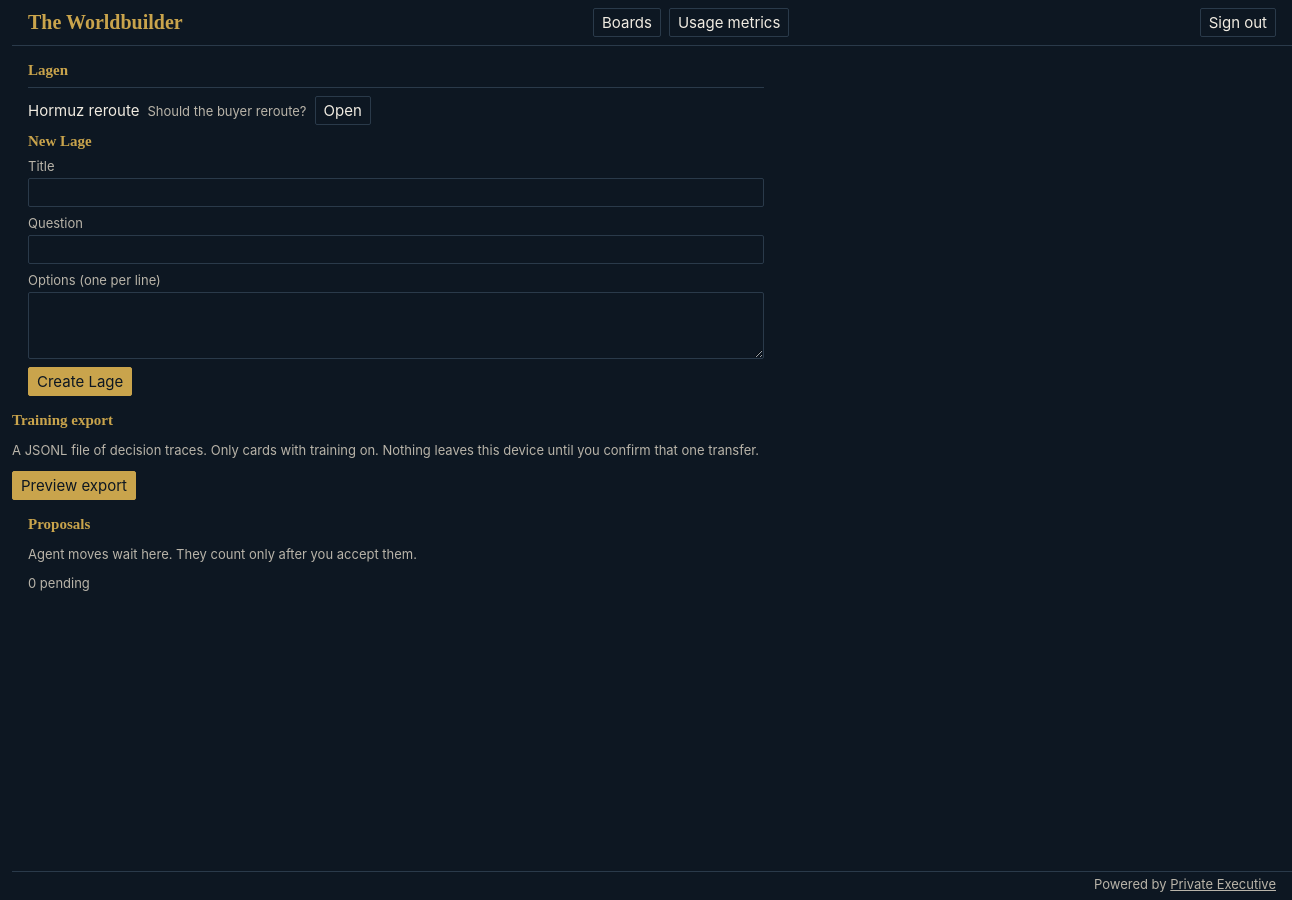
Scenario: Lage list and creation › shows an archived board and does not save that view
The width and height of the screenshot is (1292, 900).
Click the button "Open" at (343, 110), box 314,96 -> 371,125
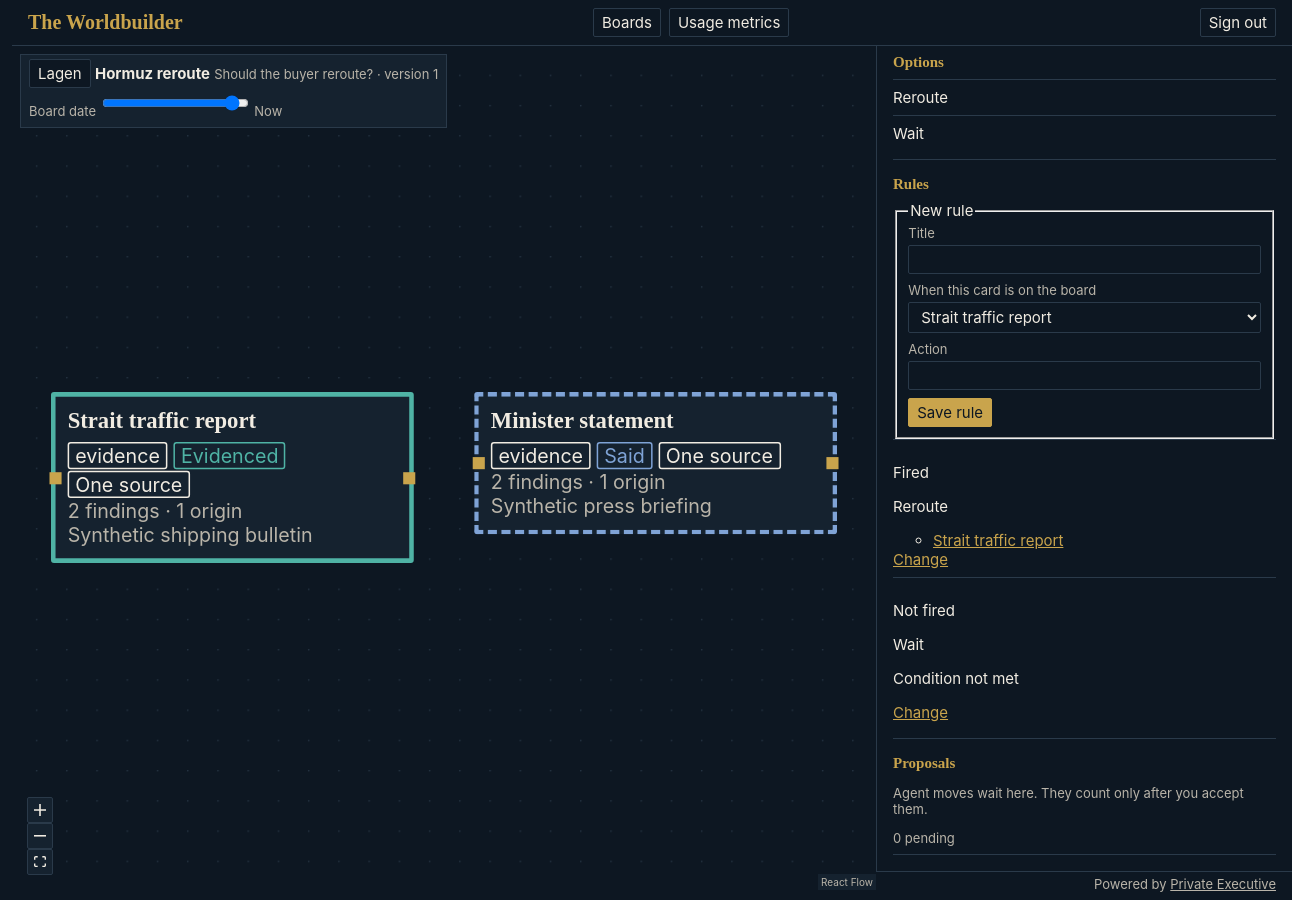
Expected: the text with test id "board-question" reads "Should the buyer reroute?", 214,66 -> 373,82
Expected: the element with test id "workbench" is shown
Set the slider with test id "time-slider" to "0" at (110, 103), box 102,90 -> 249,116
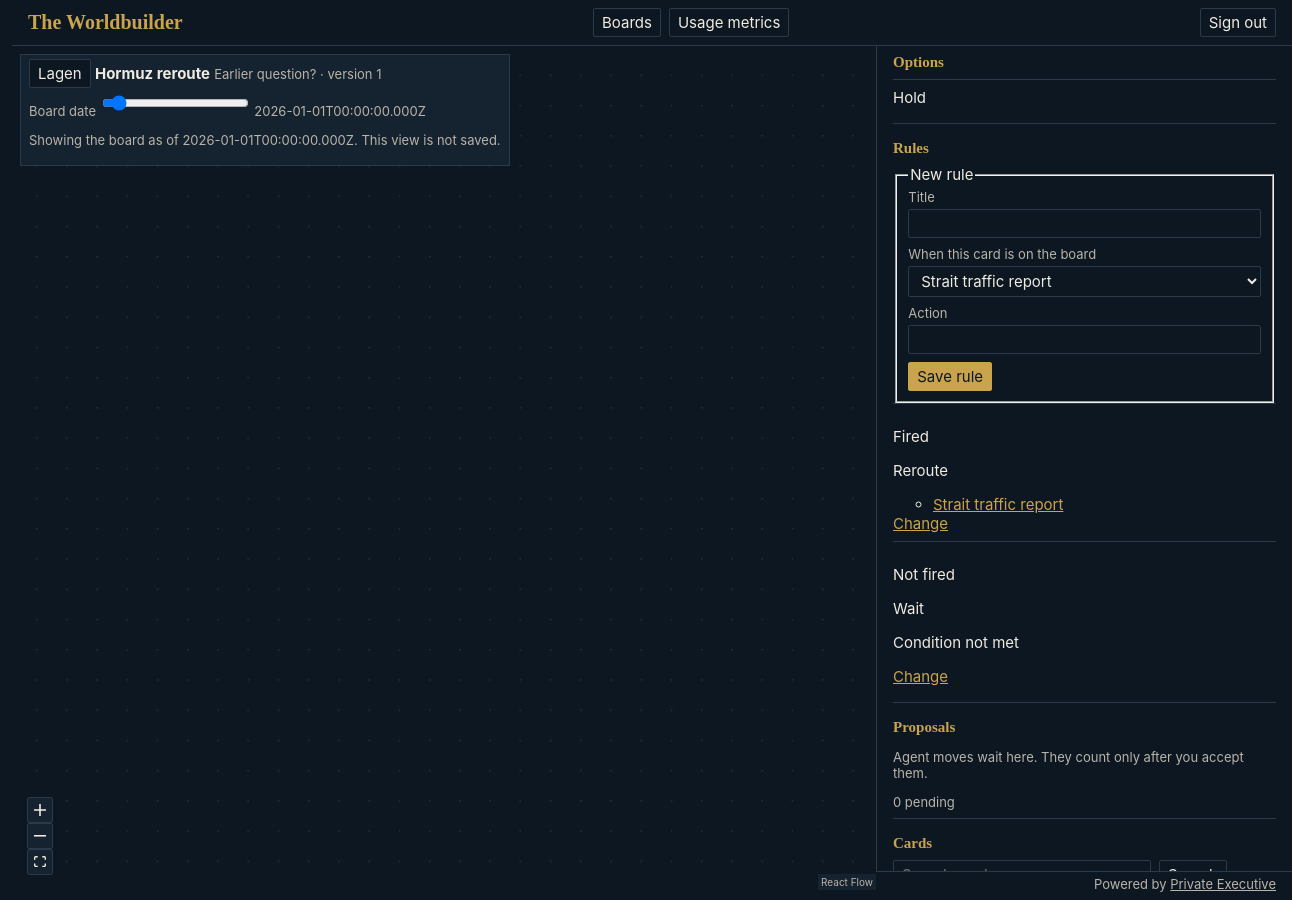
Expected: the text with test id "board-question" reads "Earlier question?", 214,66 -> 316,82
Expected: the message with test id "time-banner" shows "2026-01-01T00:00:00.000Z", 182,132 -> 354,148
Expected: the list item "Hold" is shown, 893,79 -> 1276,115
Set the slider with test id "time-slider" to "1" at (241, 103), box 102,90 -> 249,116
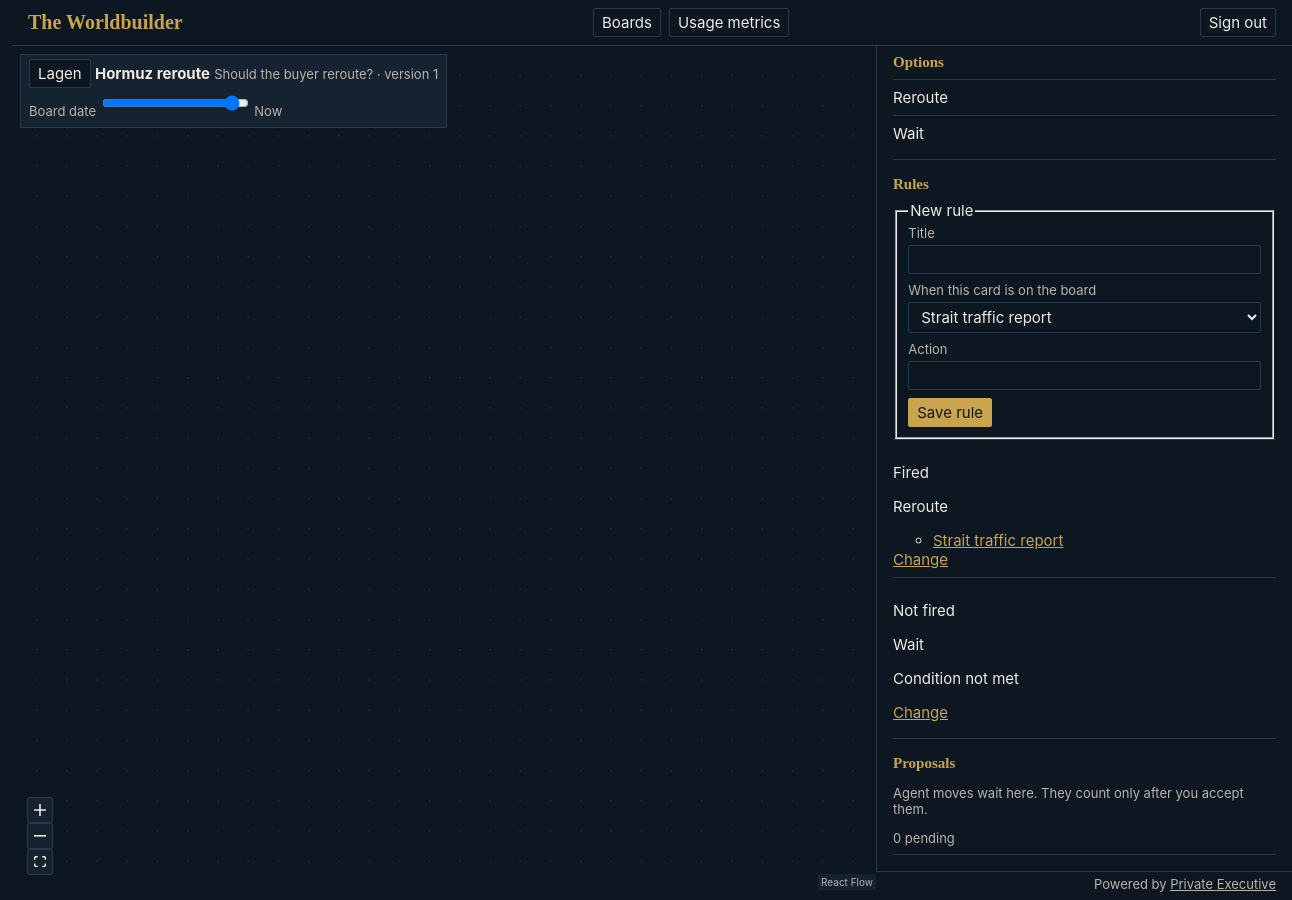
Expected: the text with test id "board-question" reads "Should the buyer reroute?", 214,66 -> 373,82
Expected: the message with test id "time-banner" is gone
